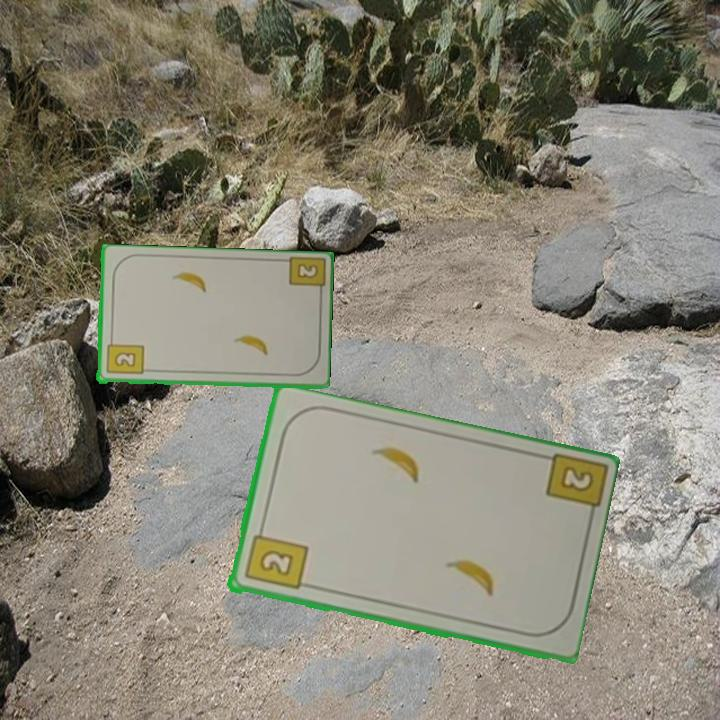2b: (241, 523, 310, 593), (284, 255, 326, 301), (103, 335, 146, 378), (556, 462, 597, 496)
